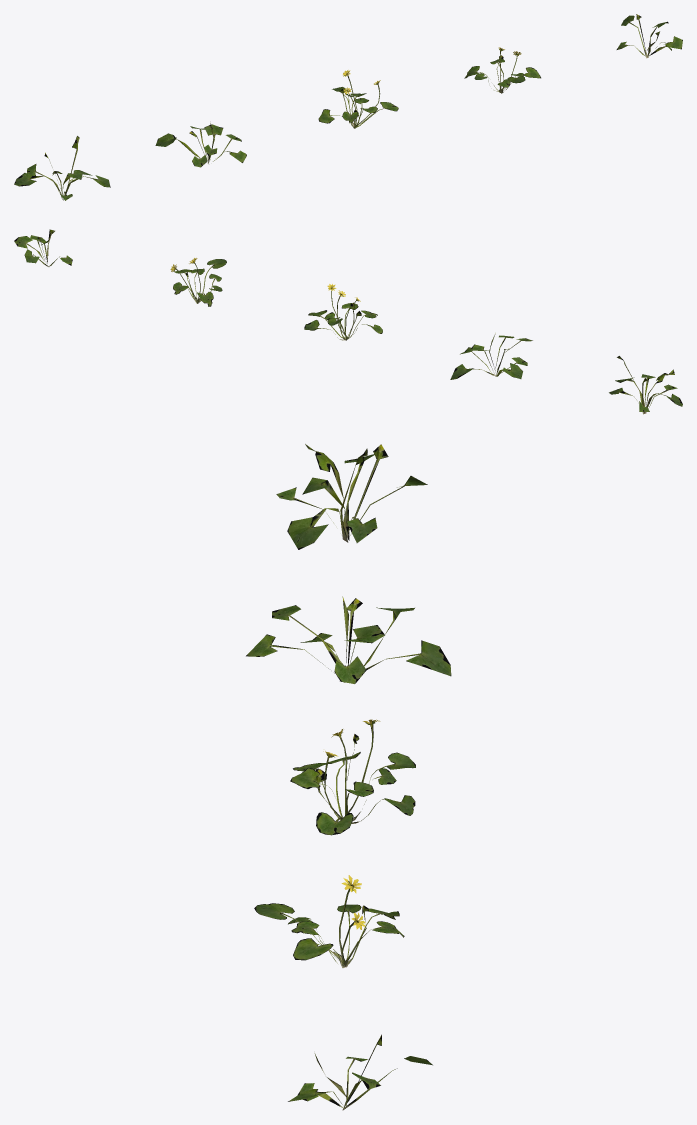
Rendered from celandine_01-low.glb.
3 renders of one model, top to bottom at view 1: azimuth 30°, elevation 25°; view 2: azimuth 150°, elevation 25°; view 3: azimuth 270°, elevation 25°, orthographic. The views are drawn at different scales.
Parts seen in each view (by area): view 1: celandine_01_c_LOD0, celandine_01_b_LOD0, celandine_01_a_LOD0, celandine_01_d_LOD0, celandine_01_e_LOD0; view 2: celandine_01_c_LOD0, celandine_01_d_LOD0, celandine_01_b_LOD0, celandine_01_a_LOD0, celandine_01_e_LOD0; view 3: celandine_01_b_LOD0, celandine_01_a_LOD0, celandine_01_c_LOD0, celandine_01_d_LOD0, celandine_01_e_LOD0.
Part boxes in pixels (<box>): celandine_01_c_LOD0: <box>318,70,398,128</box>; celandine_01_b_LOD0: <box>155,123,246,167</box>; celandine_01_a_LOD0: <box>14,136,110,200</box>; celandine_01_d_LOD0: <box>464,47,540,93</box>; celandine_01_e_LOD0: <box>616,14,682,58</box>; celandine_01_c_LOD0: <box>304,284,382,340</box>; celandine_01_d_LOD0: <box>170,258,226,306</box>; celandine_01_b_LOD0: <box>450,333,532,379</box>; celandine_01_a_LOD0: <box>609,356,682,414</box>; celandine_01_e_LOD0: <box>14,229,72,266</box>; celandine_01_b_LOD0: <box>246,596,451,683</box>; celandine_01_a_LOD0: <box>276,444,427,549</box>; celandine_01_c_LOD0: <box>290,719,415,835</box>; celandine_01_d_LOD0: <box>254,875,404,967</box>; celandine_01_e_LOD0: <box>288,1034,432,1110</box>.
Size of the model in its own units: 2.24 by 0.185 by 0.3051.
1 material, 1 textured.
